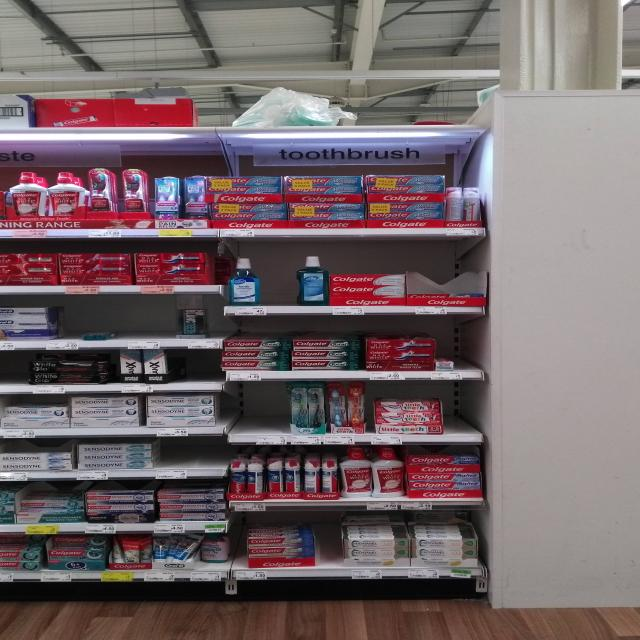void: (59, 305, 180, 338), (232, 388, 287, 430), (160, 441, 223, 468), (448, 390, 482, 431), (442, 332, 479, 369), (319, 518, 338, 557)
